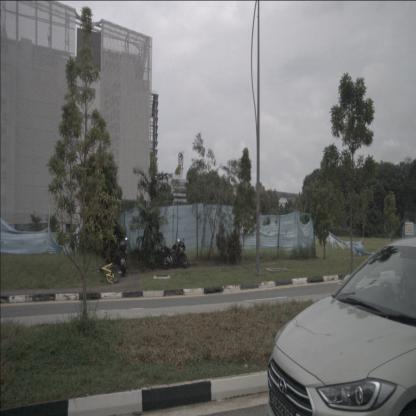vehicle-bicycle: (96, 259, 118, 285)
vehicle-car: (267, 235, 416, 415)
vehicle-motorcycle: (160, 237, 188, 270), (118, 236, 128, 276)
